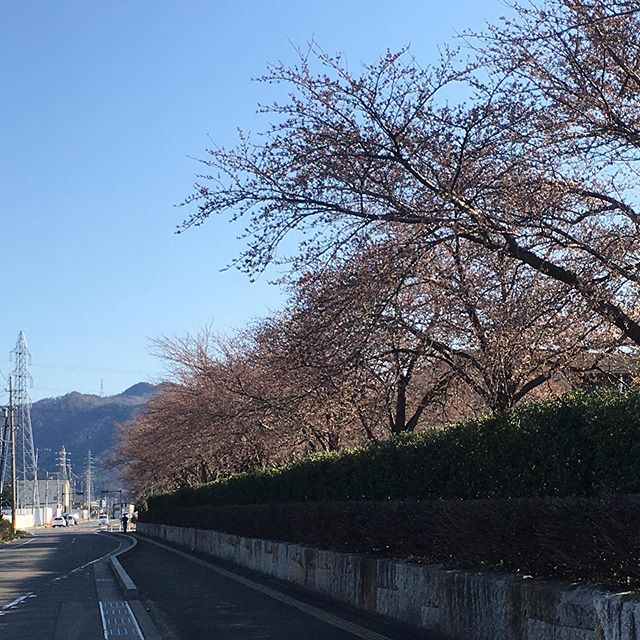sky: (1, 1, 284, 312)
street: (1, 527, 176, 640)
vegetation: (157, 95, 640, 510)
